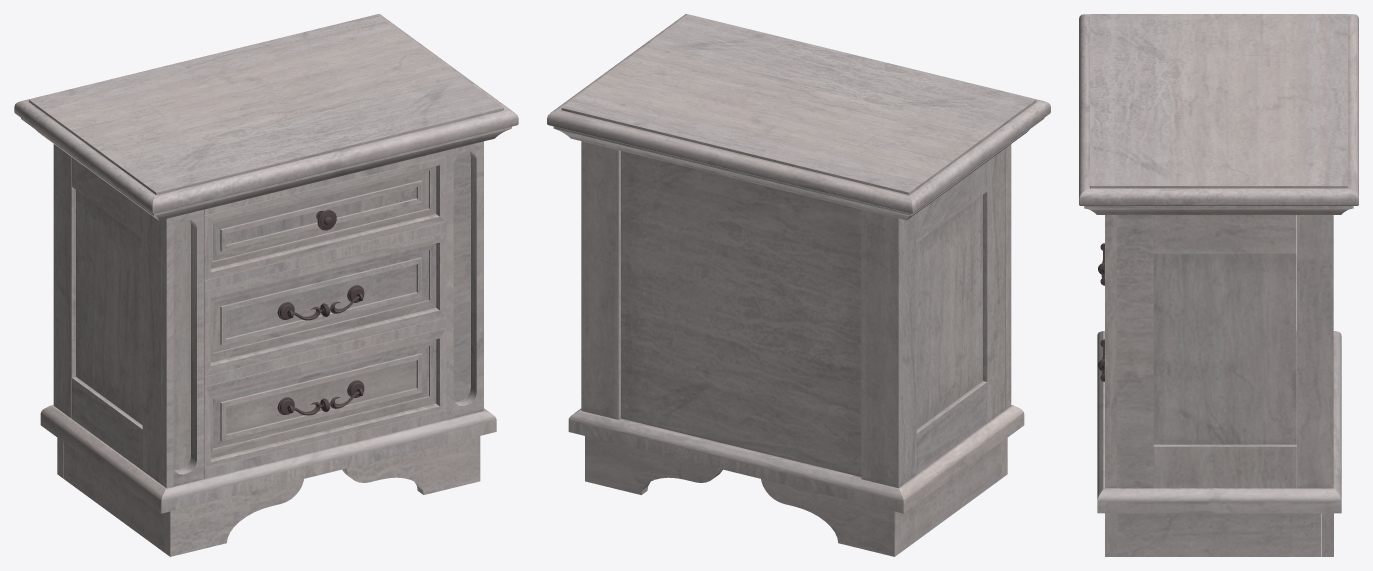
Rendered from 3D_realynnightstand_1 (1).fbx.
3 views of the same model, side by side, from view 1: azimuth 30°, elevation 25°; view 2: azimuth 150°, elevation 25°; view 3: azimuth 270°, elevation 25° (orthographic).
Visible parts, largest first — view 1: Realyn Nightstand; view 2: Realyn Nightstand; view 3: Realyn Nightstand.
Part boxes in pixels (<box>): Realyn Nightstand: <box>14,14,518,556</box>; Realyn Nightstand: <box>547,14,1050,556</box>; Realyn Nightstand: <box>1079,14,1358,556</box>.
Size of the model in its own units: 81.05 by 79.26 by 53.
